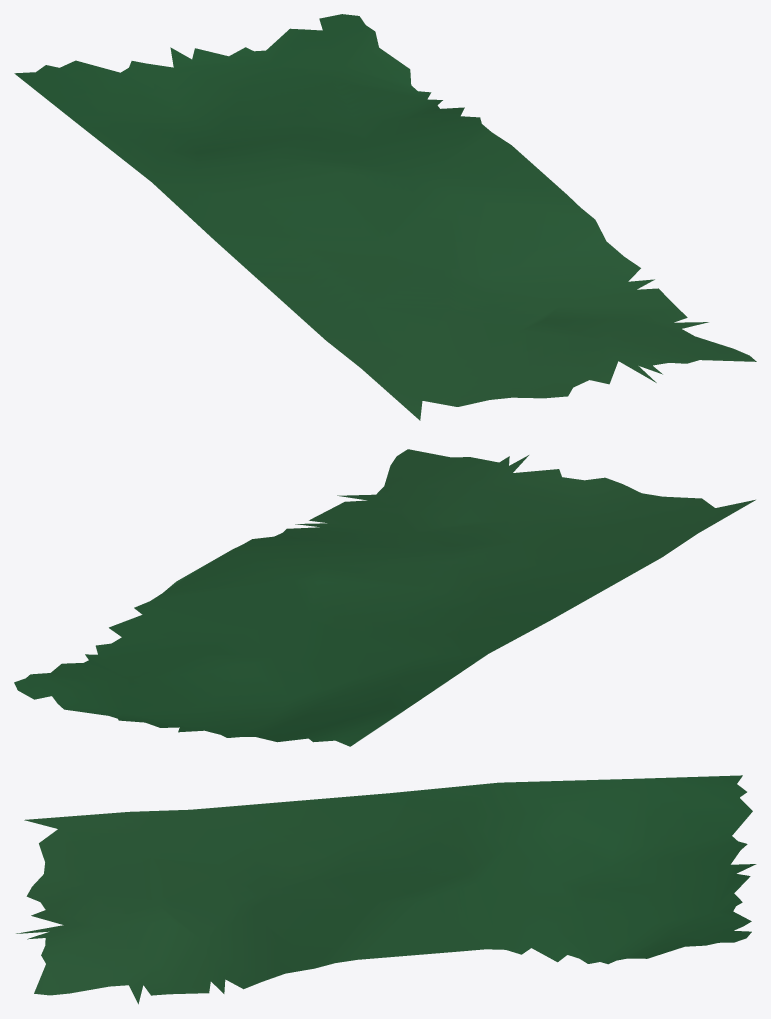
The model's file is payo_land_x4_y5_lod2.glb.
3 views of the same model, one above another, from view 1: azimuth 30°, elevation 25°; view 2: azimuth 150°, elevation 25°; view 3: azimuth 270°, elevation 25° (orthographic). The views are drawn at different scales.
Visible parts, largest first — view 1: payo_land_x4_y5; view 2: payo_land_x4_y5; view 3: payo_land_x4_y5.
Part boxes in pixels (x1=…): payo_land_x4_y5: x1=14, y1=14, x2=756, y2=420; payo_land_x4_y5: x1=14, y1=449, x2=755, y2=746; payo_land_x4_y5: x1=16, y1=775, x2=756, y2=1004.
Bounding box in the file's own units: 132 × 30.49 × 271.
